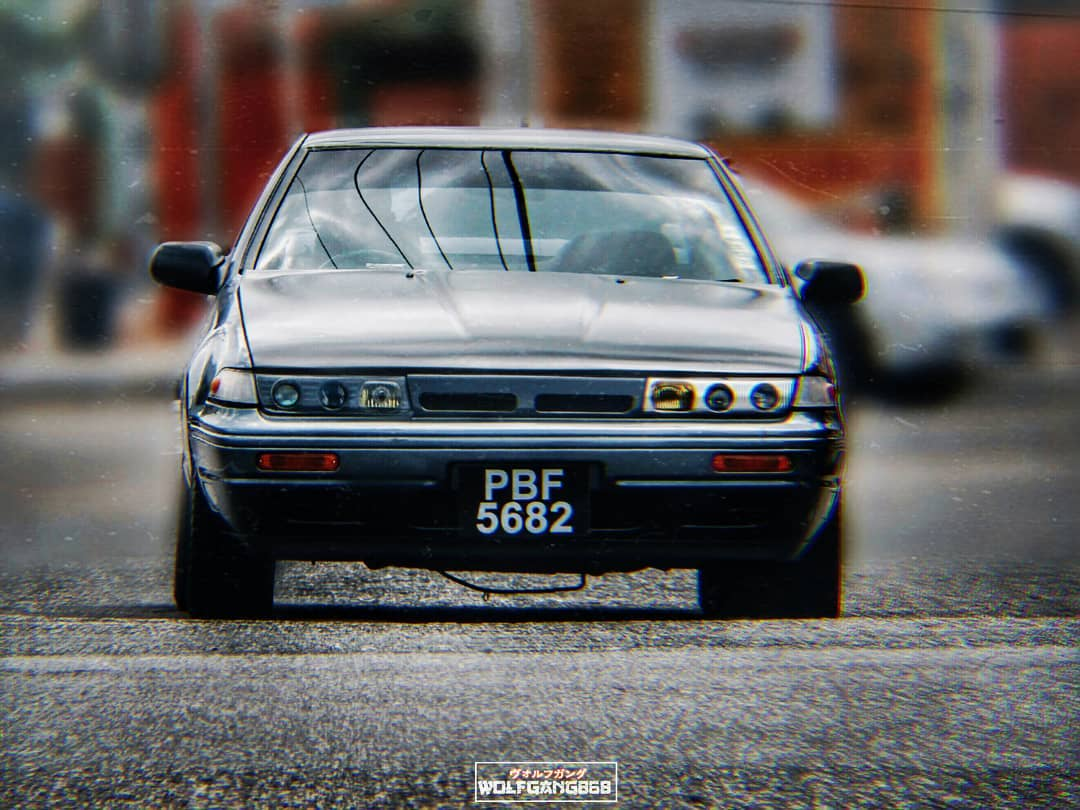License-Plate: (457, 462, 589, 535)
